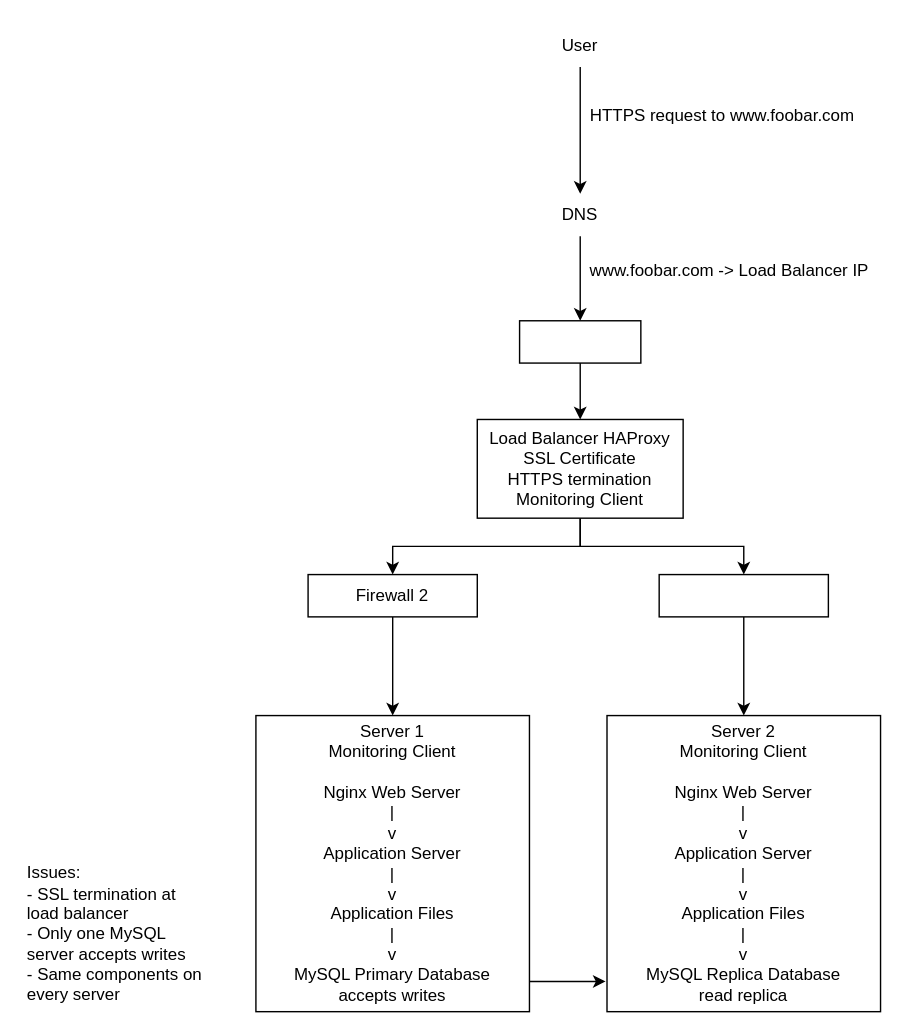
The diagram is 905 pixels wide and 1036 high, and some of its shapes have lost their labels. The shapes that lost their labels are listed below. From the top down, each one's box as (x1, y1, x2, y2) in pixels, then its label:
(518, 319, 641, 363): Firewall 1
(658, 573, 828, 617): Firewall 3
